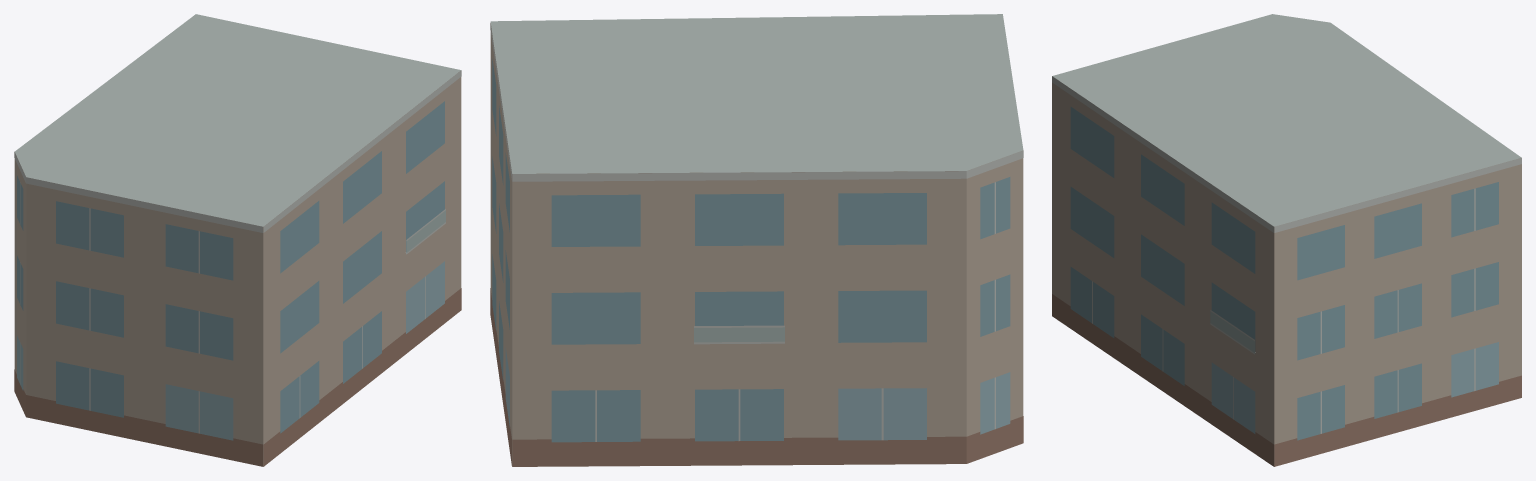
File: survey-upis-32931487.glb
3 views of the same model, side by side, from view 1: azimuth 30°, elevation 25°; view 2: azimuth 150°, elevation 25°; view 3: azimuth 270°, elevation 25° (orthographic). The views are drawn at different scales.
Parts seen in each view (by area): view 1: survey-upis-32931487.tmp; view 2: survey-upis-32931487.tmp; view 3: survey-upis-32931487.tmp.
Boxes of the visible parts, x1,y1,x2,y2 form: survey-upis-32931487.tmp: (14, 14, 461, 466); survey-upis-32931487.tmp: (490, 14, 1023, 466); survey-upis-32931487.tmp: (1052, 14, 1521, 466).
Bounding box in the file's own units: 17.4 × 9.15 × 16.23.
